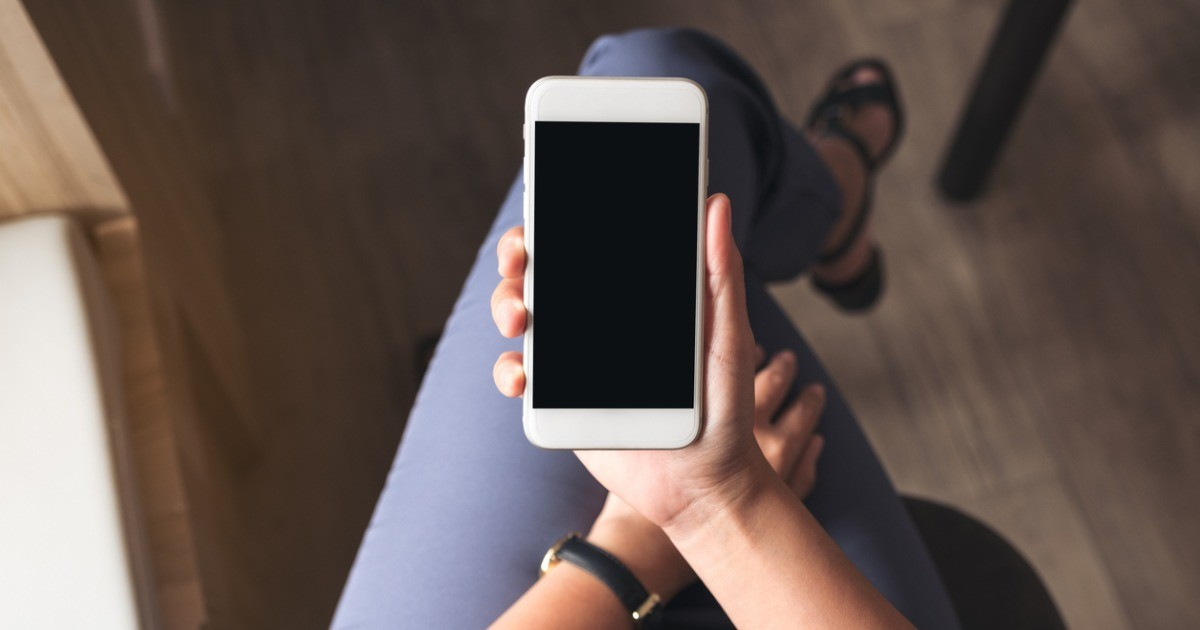phones: (500, 61, 738, 470)
